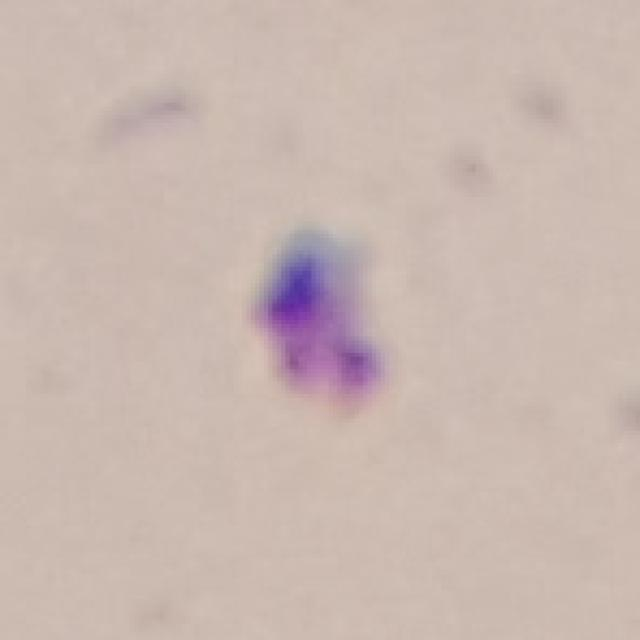non-sperm: (250, 226, 384, 427)
